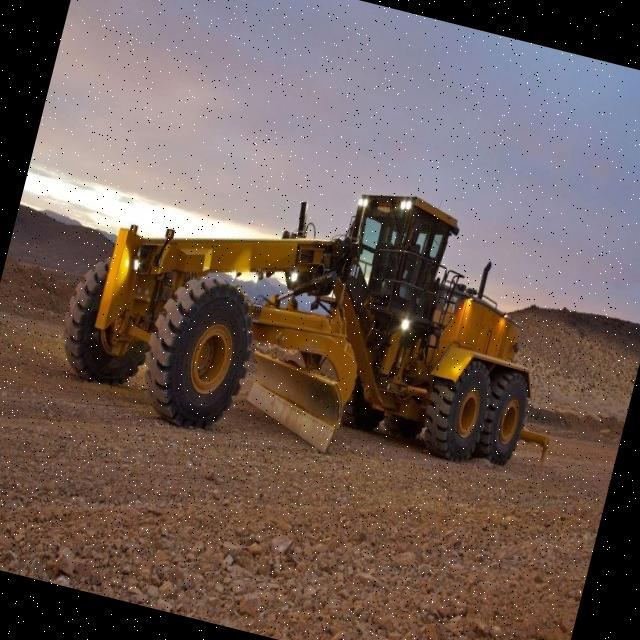Grader: (40, 110, 610, 518)
